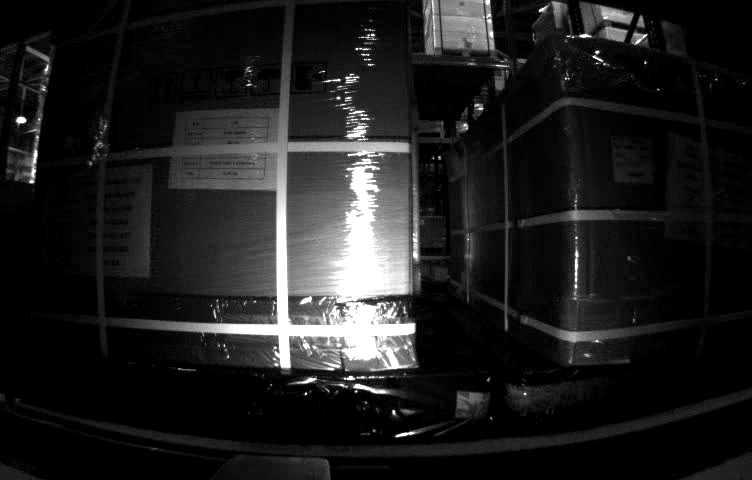True Barcode: (610, 135, 656, 187)
